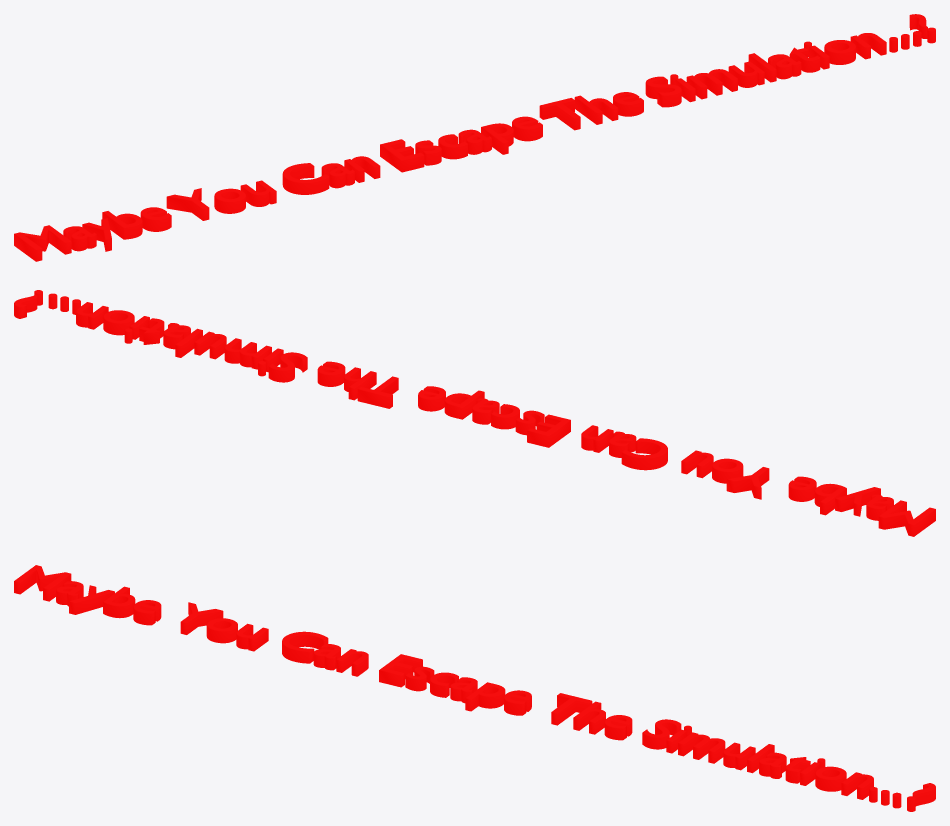
File: escape.glb
3 renders of one model, top to bottom at view 1: azimuth 30°, elevation 25°; view 2: azimuth 150°, elevation 25°; view 3: azimuth 330°, elevation 25°, orthographic.
Parts seen in each view (by area): view 1: Text; view 2: Text; view 3: Text.
Part boxes in pixels (x1,y1,x2,y2): Text: [14, 14, 935, 261]; Text: [14, 290, 935, 536]; Text: [14, 565, 935, 811].
Size of the model in its own units: 16.71 by 0.22 by 0.9413.
